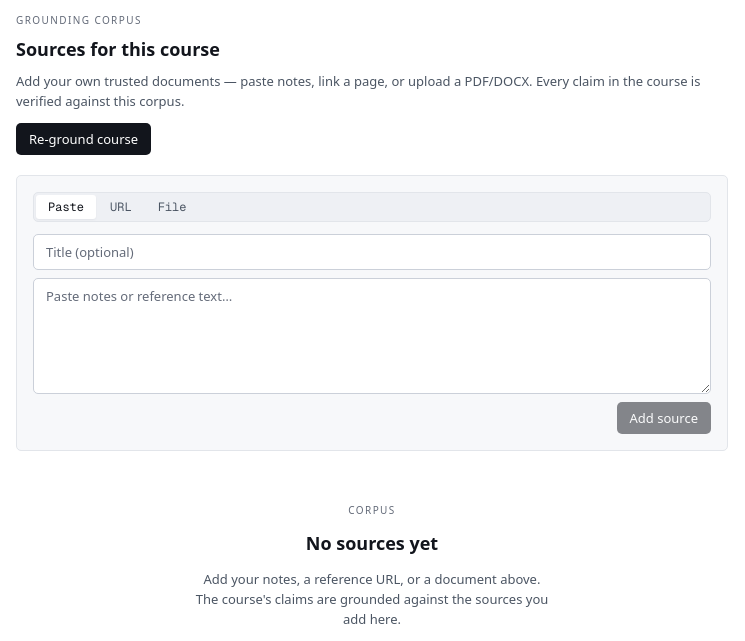
CorpusPanel › re-grounds the course and reloads it
Expected: the heading "No sources yet" is shown, x1=306 y1=530 x2=438 y2=557
Click the button "Re-ground course": (84, 139) x1=16 y1=123 x2=151 y2=155
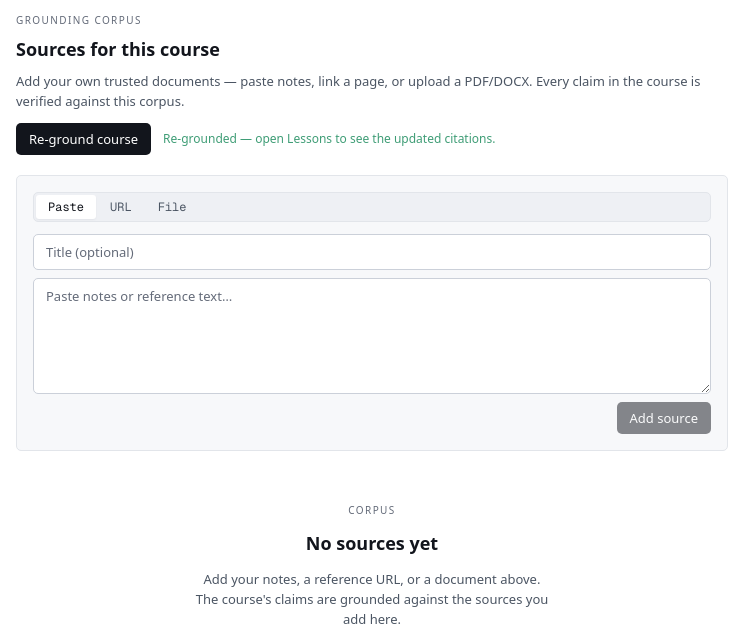
Expected: the text "Re-grounded — open Lessons to see the updated citations." is shown, x1=163 y1=130 x2=495 y2=148
